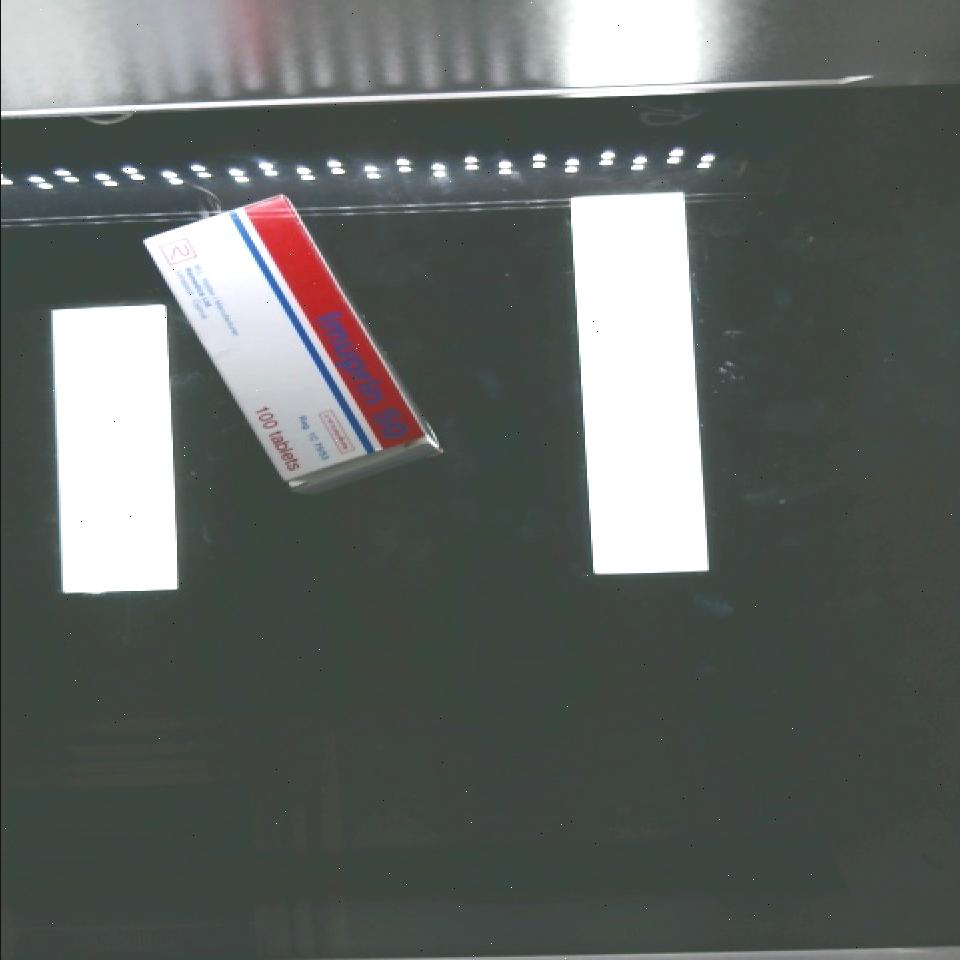medicine_box: (136, 166, 438, 522)
medicine_label_obb: (289, 290, 433, 473)
